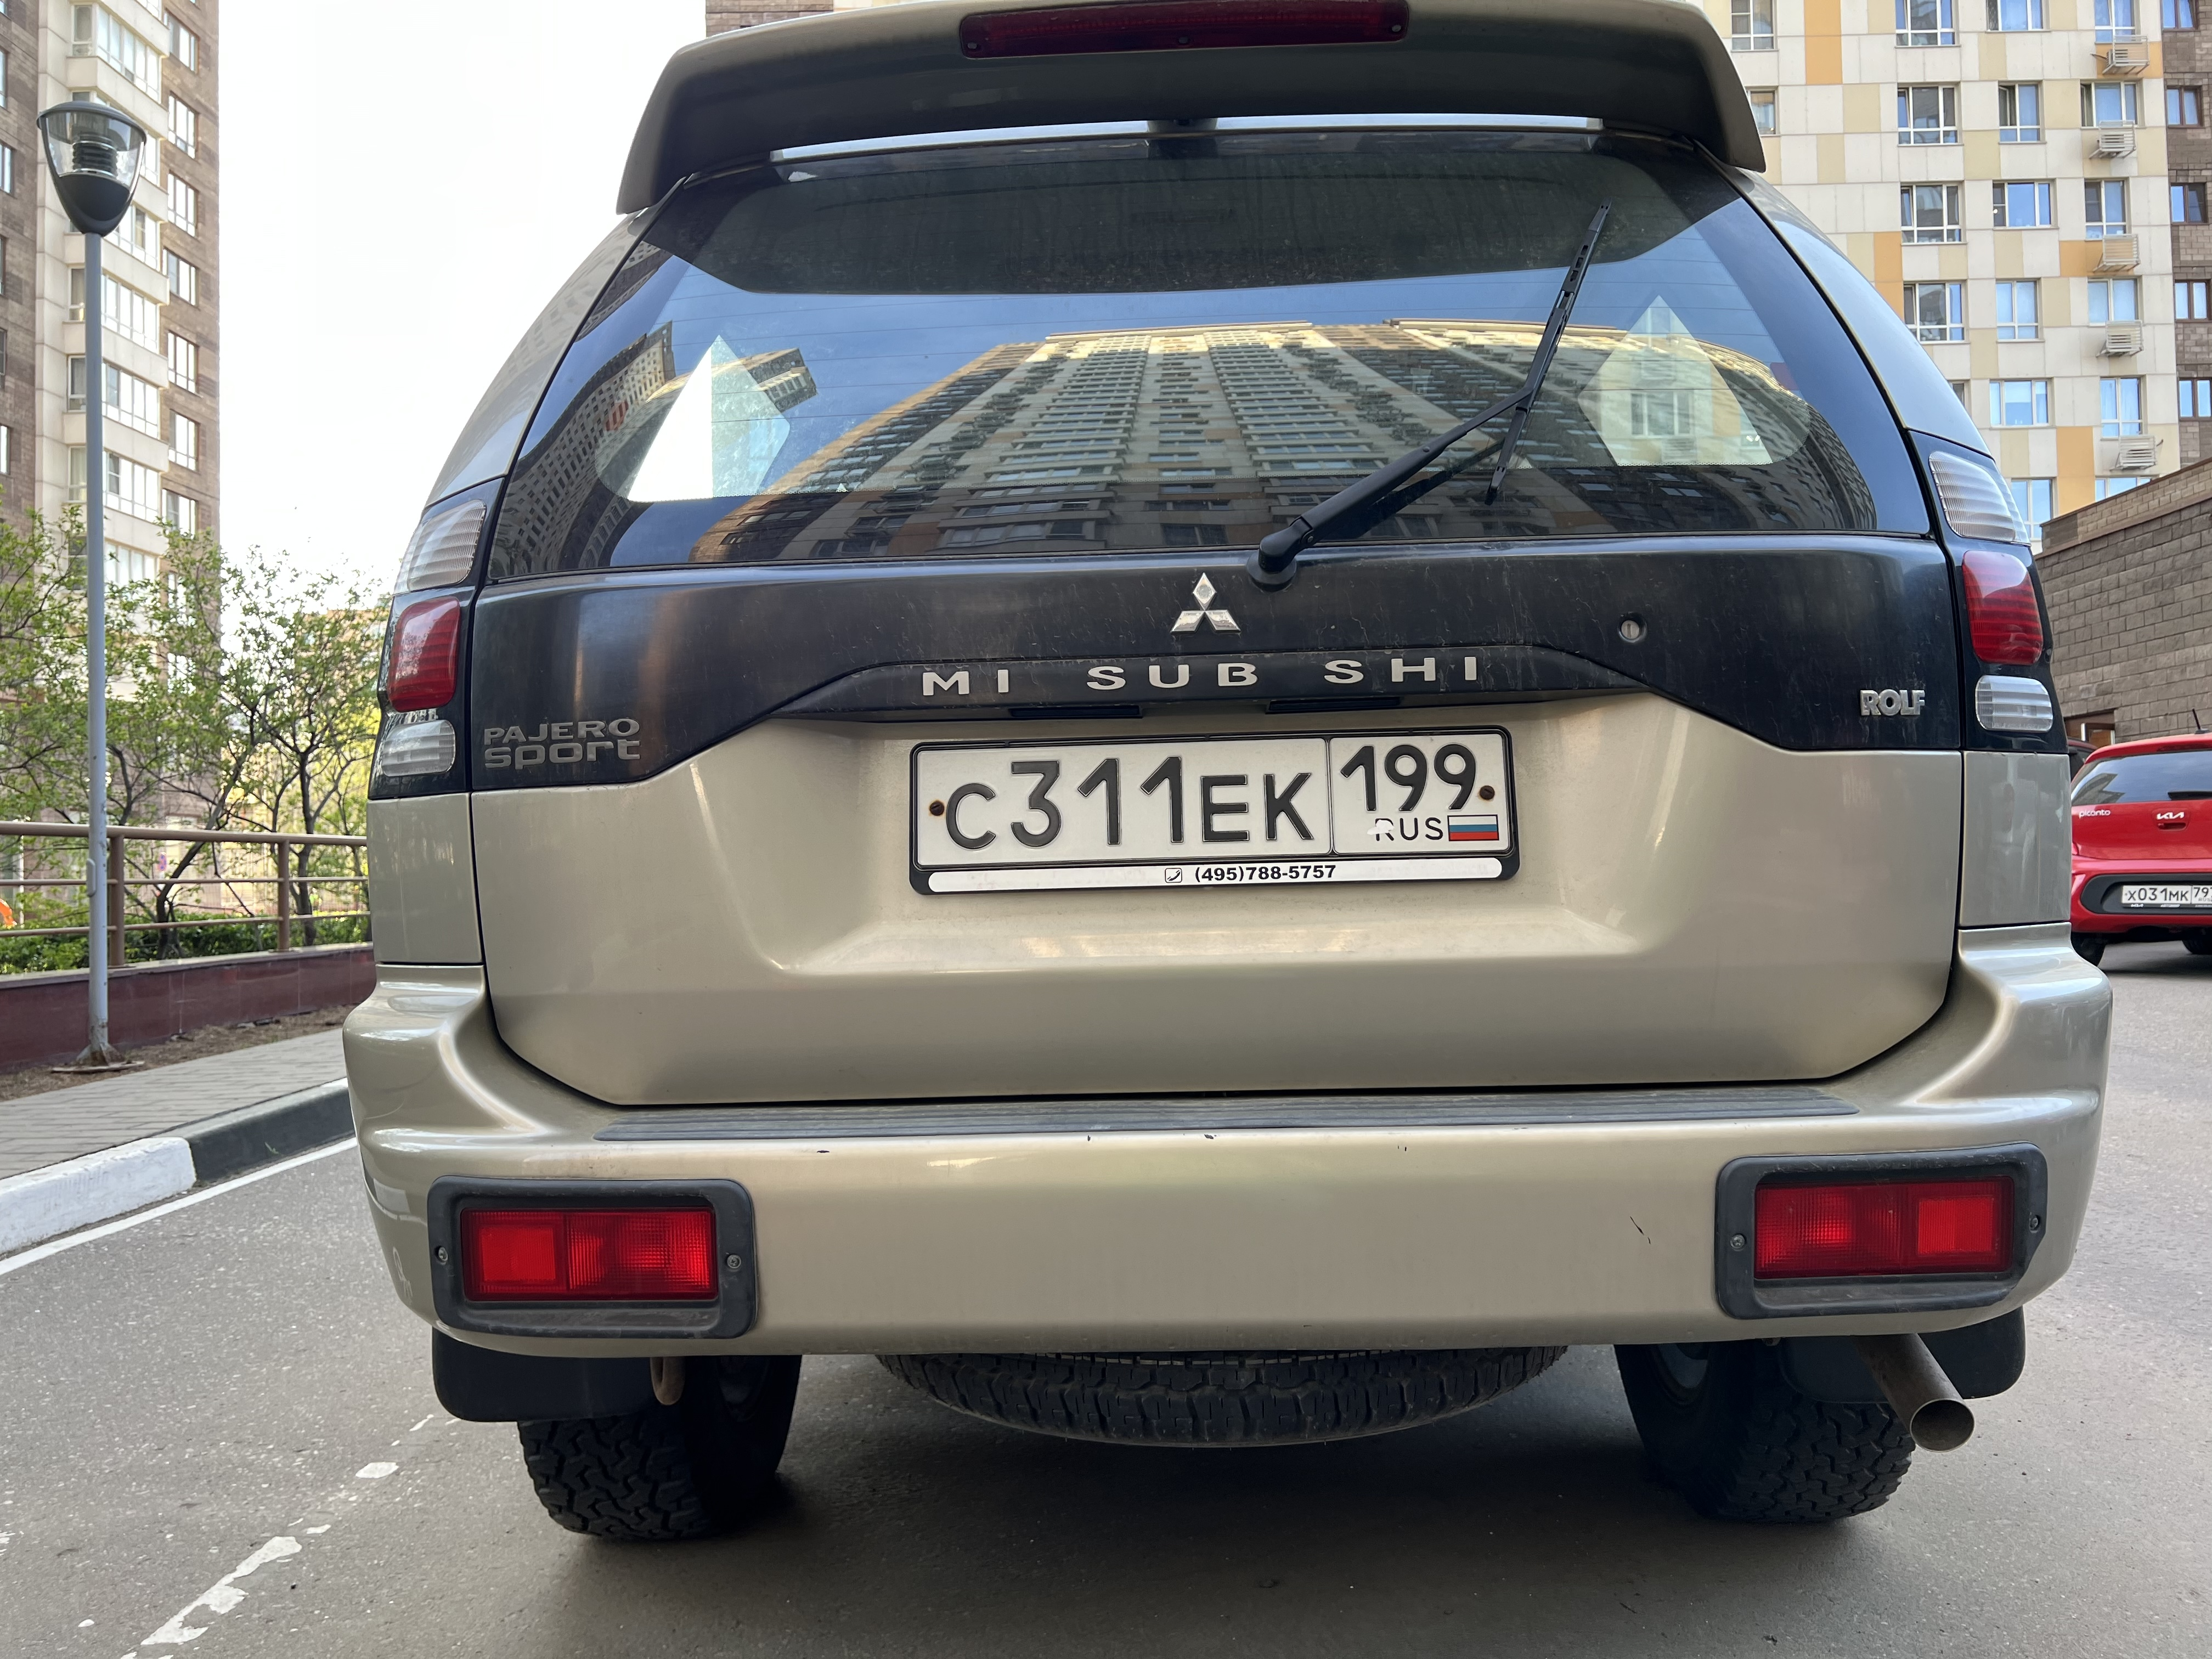00 Krupnie detali. bamper zadniy: (336, 918, 2113, 1358)
07 Krupnie detali. koleso: (876, 1349, 1559, 1448), (1616, 1344, 1912, 1520), (517, 1361, 799, 1537)
08 Krupnie detali. krylo zadnee levoe: (366, 802, 481, 960)
09 Krupnie detali. krylo zadnee pravoe: (1959, 755, 2071, 925)
12 Krupnie detali. krysha: (423, 0, 1991, 504)
13 Krupnie detali. kryshka bagazhnika: (474, 533, 1958, 1098)
15 Krupnie detali. steklo kuzova zadnee: (482, 131, 1932, 577)
36 Melkie detali. fonar katafot levyy v zadniy bamper: (470, 1209, 709, 1300)
37 Melkie detali. fonar katafot pravyy v zadniy bamper: (1761, 1182, 2008, 1284)
38 Melkie detali. shildik marki avto: (914, 655, 1487, 704)
39 Melkie detali. emblema: (1170, 573, 1240, 633)
59 Srednie detali. ramka gosnomera: (913, 732, 1522, 890)
72 Srednie detali. fonar zadniy levyy: (368, 483, 503, 795)
73 Srednie detali. fonar zadniy pravyy: (1905, 439, 2064, 751)
